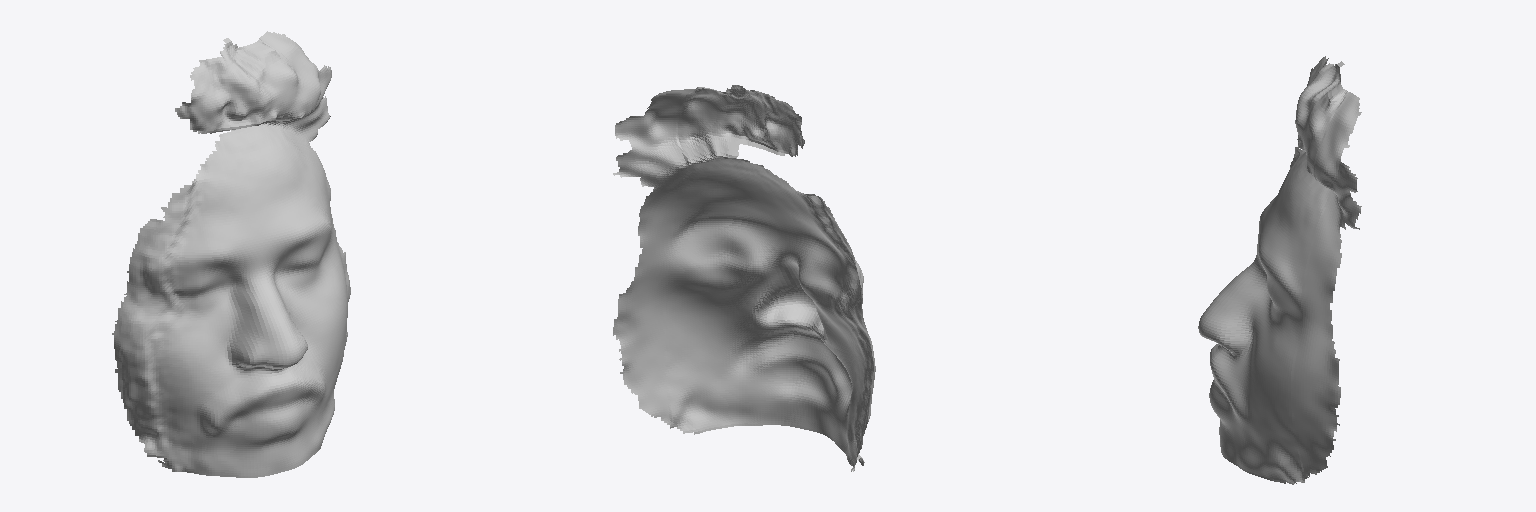
File: mymodel.obj
The picture shows the model from 3 angles: view 1: azimuth 30°, elevation 25°; view 2: azimuth 150°, elevation 25°; view 3: azimuth 270°, elevation 25°; orthographic projection.
Size of the model in its own units: 142 by 211 by 80.39.